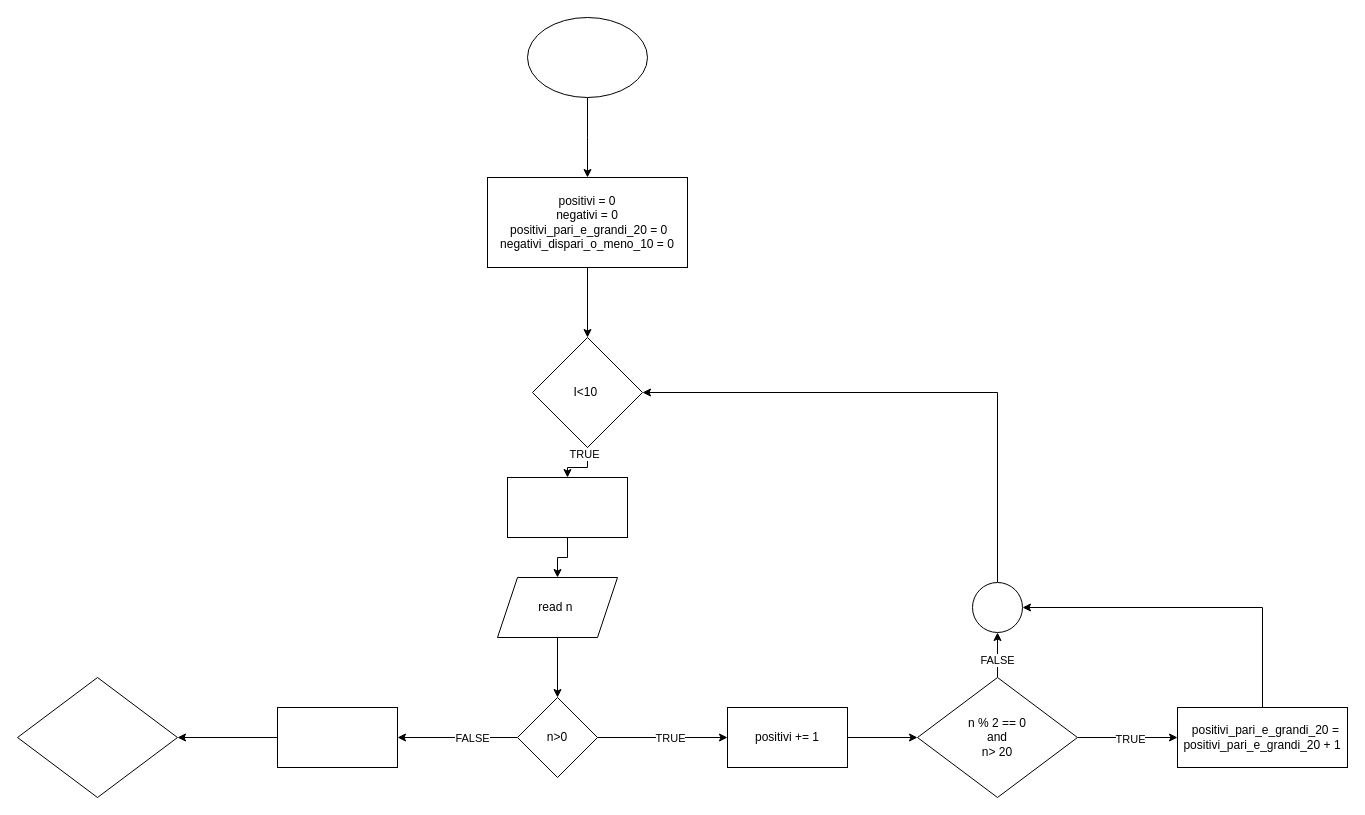
Some shapes in this 1365 by 815 pixel diagram are drawn without their labels. Each missing label, with the box of its shape:
i + = 1: (506, 476, 628, 538)
negativi += 1: (276, 706, 398, 768)
START: (526, 16, 648, 98)
